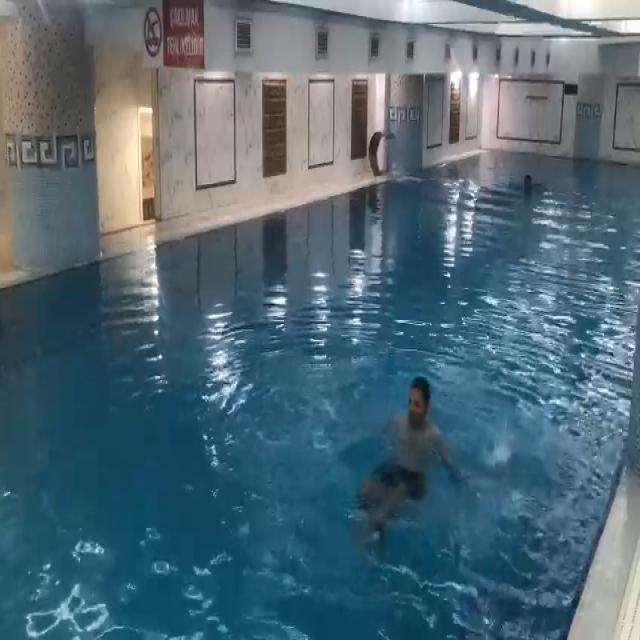Drowning: (357, 378, 453, 546)
